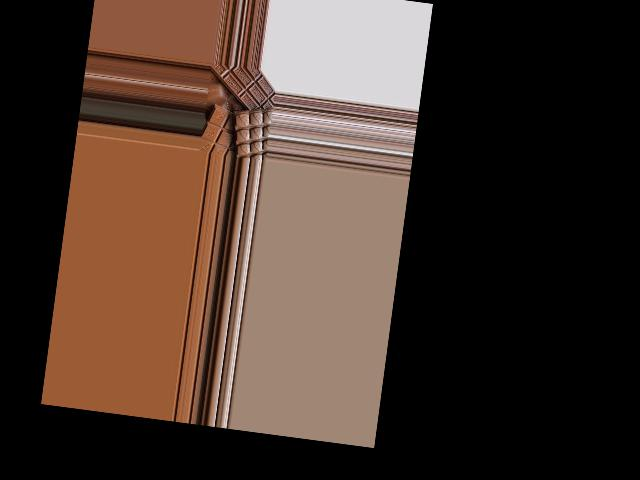chocolate: (202, 104, 248, 158)
